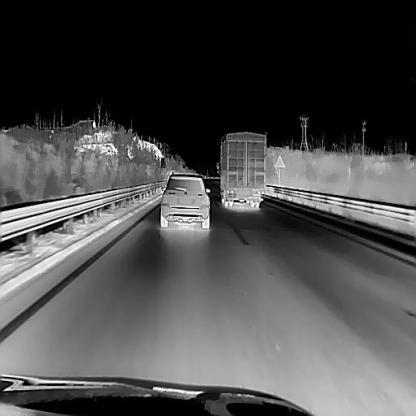car: (215, 131, 266, 207), (159, 170, 210, 227)
